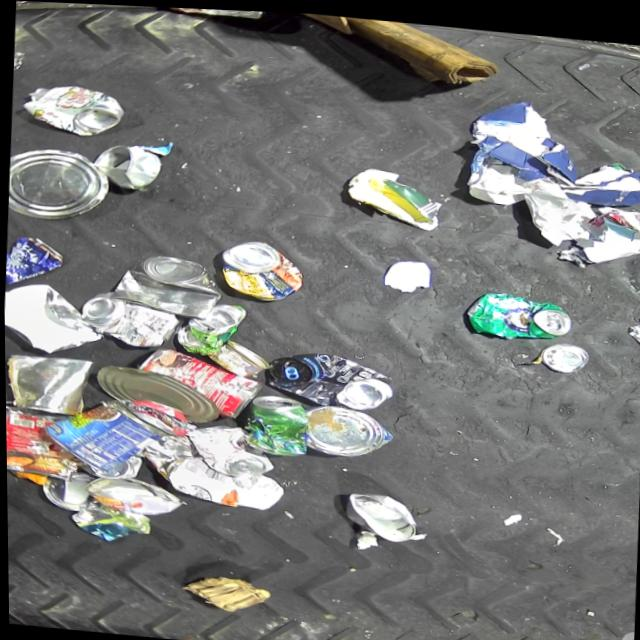can: (38, 390, 167, 474), (133, 344, 263, 419), (7, 143, 113, 223), (266, 346, 395, 410), (108, 249, 223, 320), (94, 363, 218, 421), (78, 288, 180, 349), (22, 79, 127, 138), (4, 350, 95, 416), (465, 285, 573, 337), (218, 235, 304, 300), (184, 418, 274, 476), (5, 407, 77, 479), (305, 400, 393, 458), (81, 471, 182, 515), (174, 296, 247, 355), (242, 389, 310, 452), (345, 486, 421, 540), (4, 234, 67, 293), (91, 140, 160, 190), (206, 335, 270, 376), (38, 467, 95, 511), (77, 449, 142, 479), (539, 336, 589, 369), (166, 6, 267, 17)
